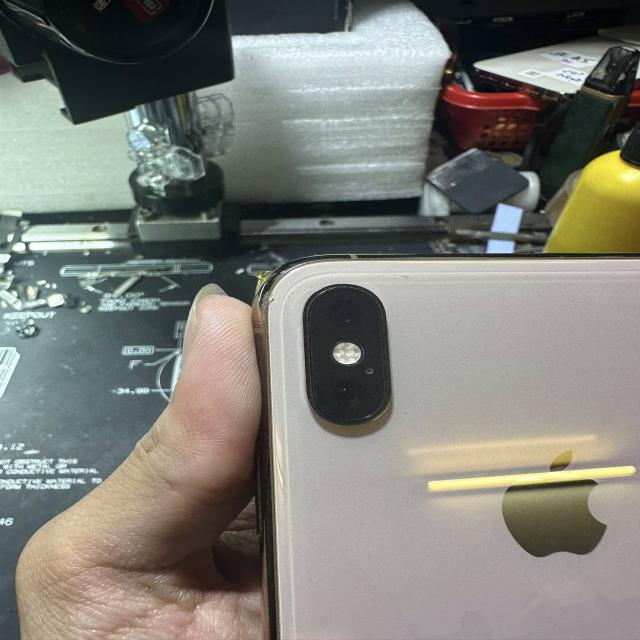scratch: (255, 287, 276, 329), (400, 271, 410, 280), (288, 291, 296, 299), (402, 411, 408, 416)
